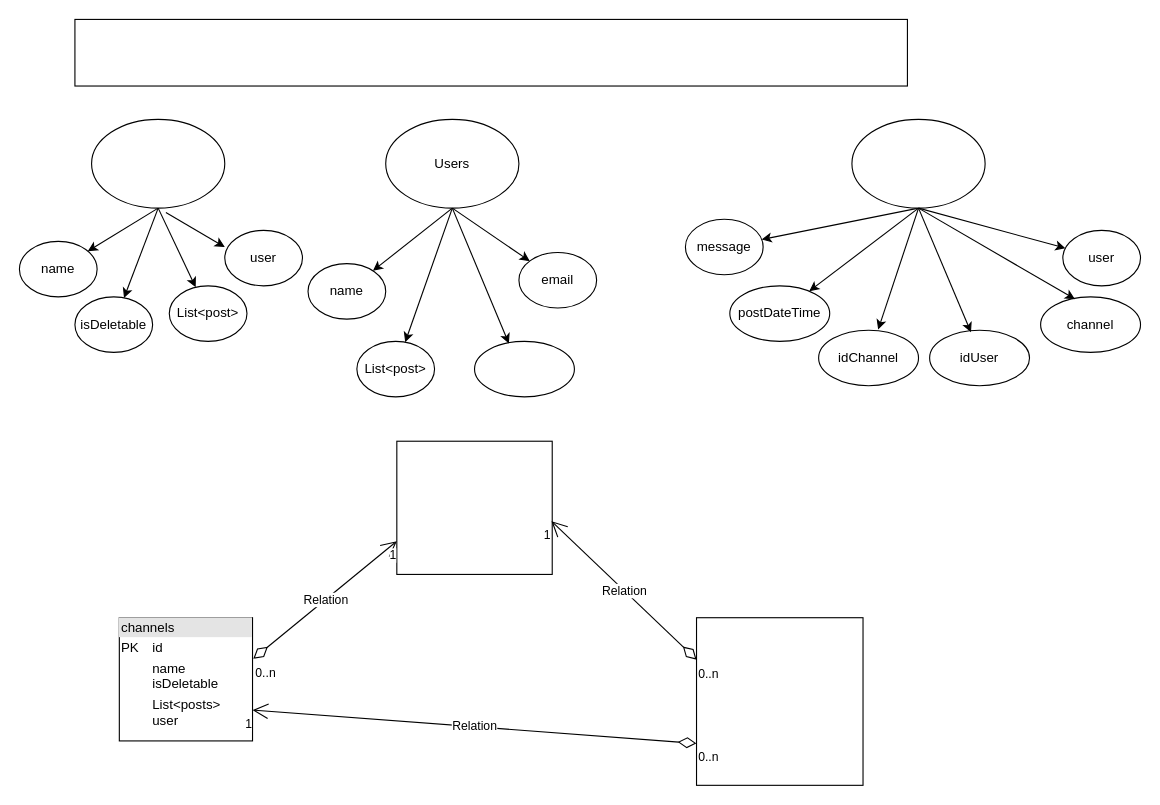
This 1160x805 diagram has some shape labels left out. The box of each missing label's shape, as (x1, y1, x2, y2) in pixels:
Channels: (90, 118, 225, 208)
Diagramme de classe projet Slack: (74, 18, 907, 86)
List<channel>: (473, 340, 574, 397)
Posts: (851, 118, 985, 208)
posts PK id message postDateTime idChannel idUser user channel: (695, 617, 863, 785)
users PK id name email List<posts> List<channels>: (396, 440, 552, 574)
